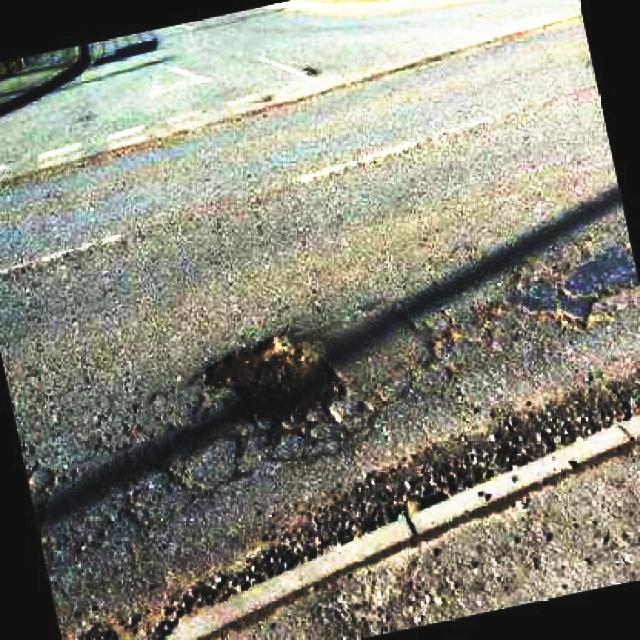pothole: (206, 334, 351, 431)
